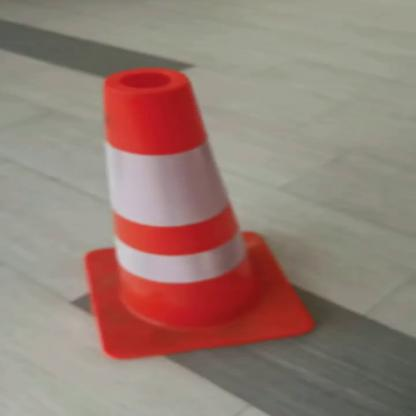cone: (42, 65, 324, 363)
